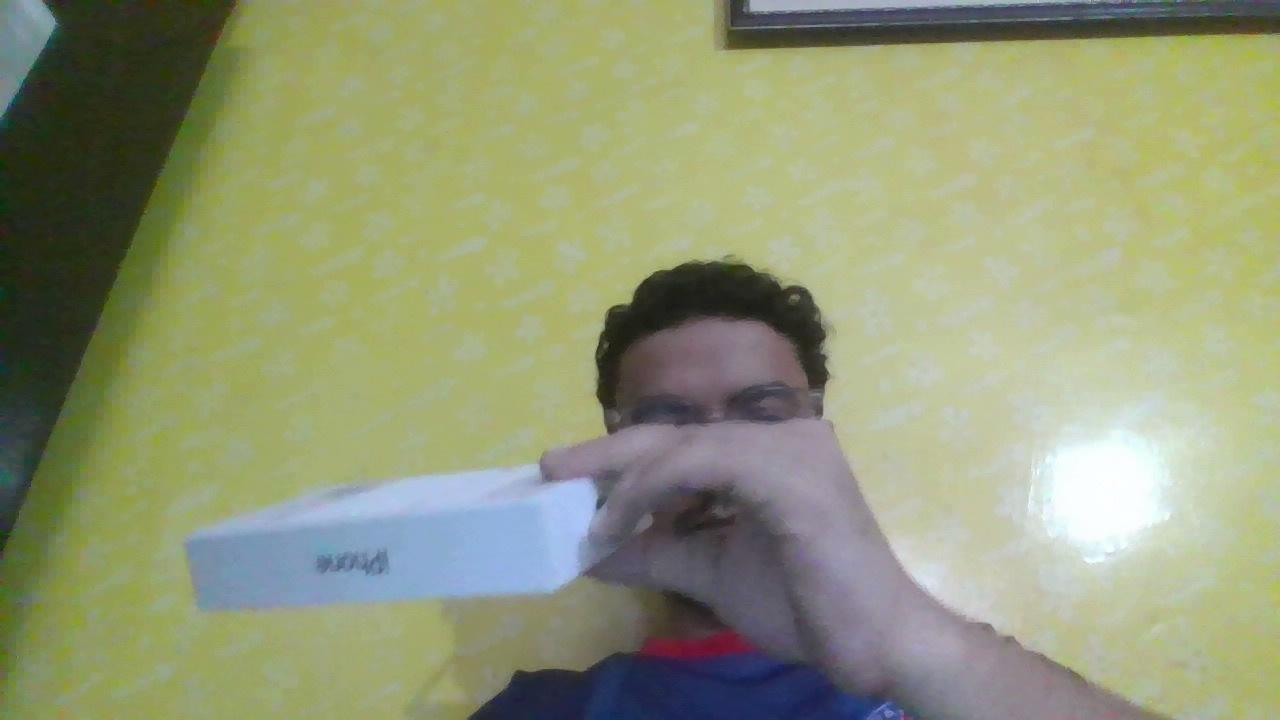Phone: (166, 463, 630, 611)
